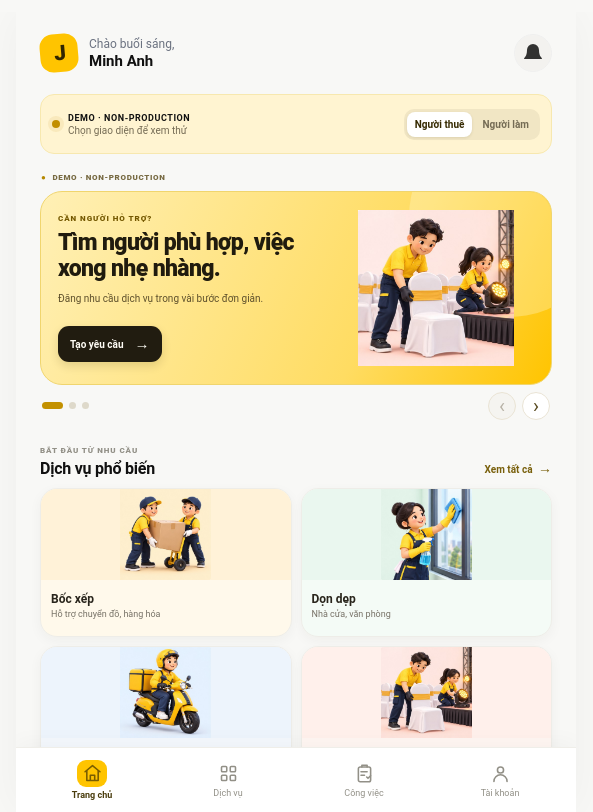
Test: AppShell role context › opens the selected Worker Home opportunity detail, returns to opportunities, and keeps Employer isolated
Click the button "Người làm": (506, 124) [474,112,537,136]
(page scrolled)
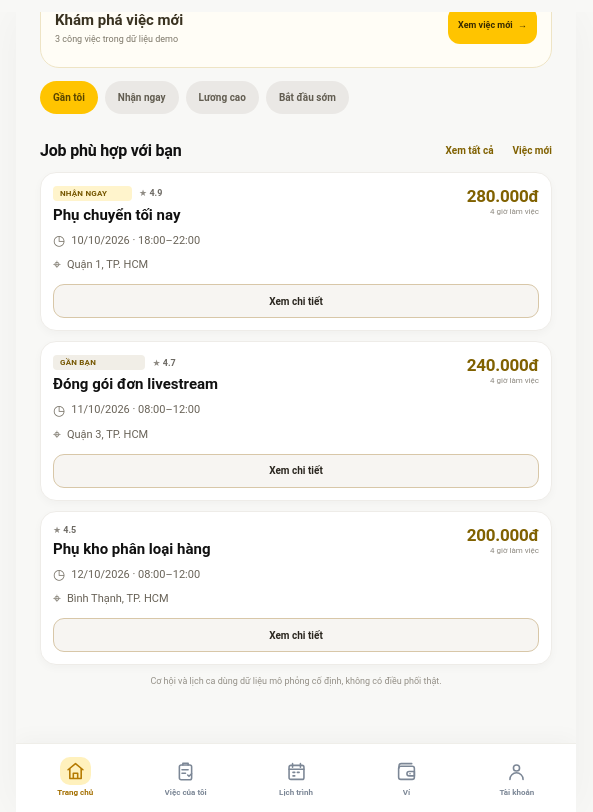
Click the button "Xem chi tiết" below "Quận 3, TP. HCM": (296, 471) [53,454,539,488]
(page scrolled)
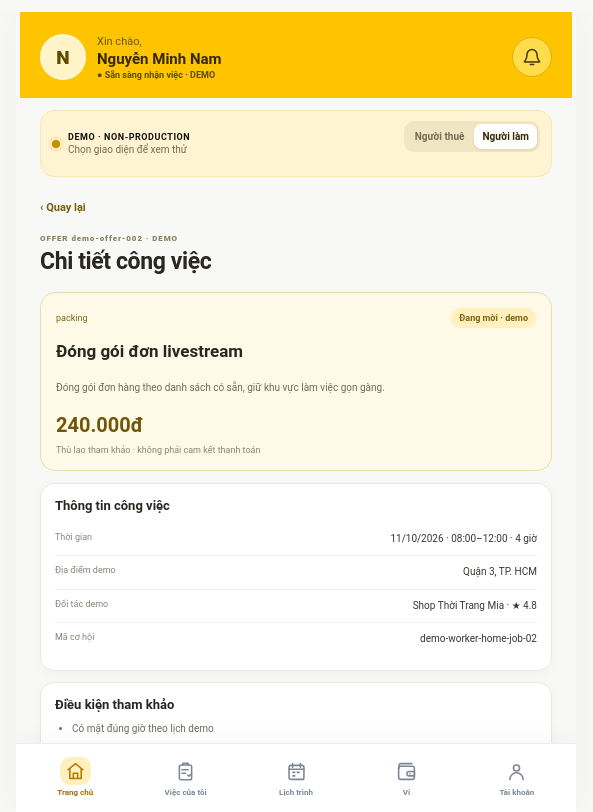
Now the heading "Chi tiết công việc" is shown, box [40,248,211,275]
Now the text "demo-worker-home-job-02" is shown, box [420,633,537,644]
Click the button "‹ Quay lại": (63, 208) [40,196,86,219]
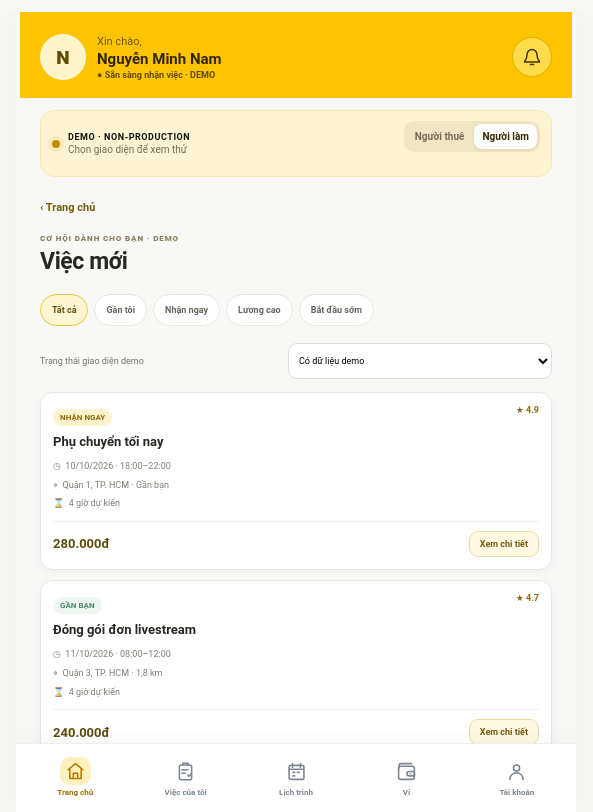
Now the heading "Việc mới" is shown, box [40,248,128,275]
Click the button "Người thuê": (440, 136) [407,124,472,149]
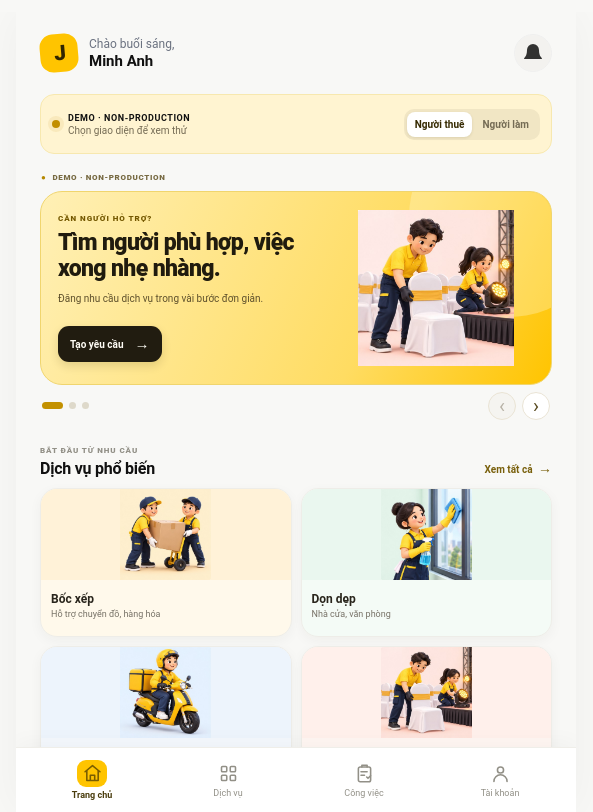
Expected: the heading "Chi tiết công việc" is not shown
Now the heading "Dịch vụ phổ biến" is shown, box [40,459,155,478]
Click the button "Công việc": (364, 780) [297,756,431,804]
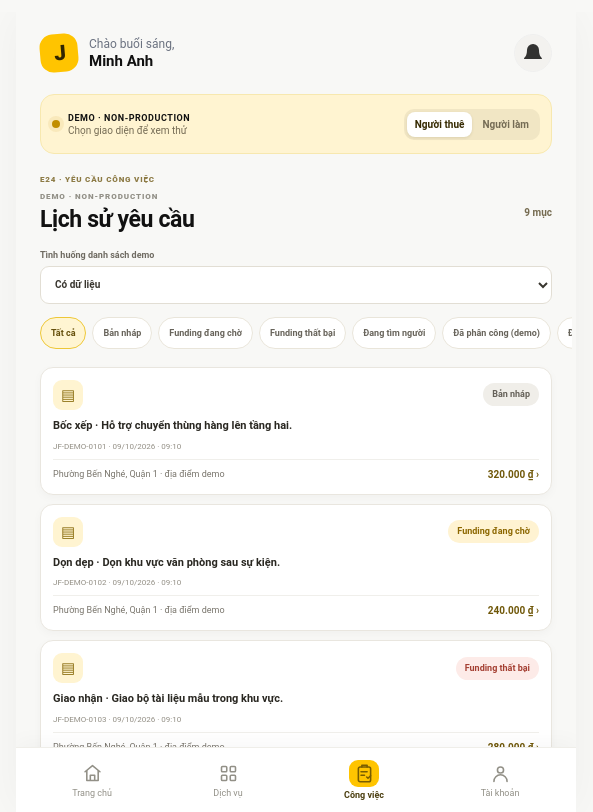
Now the heading "Lịch sử yêu cầu" is shown, box [40,206,194,234]
